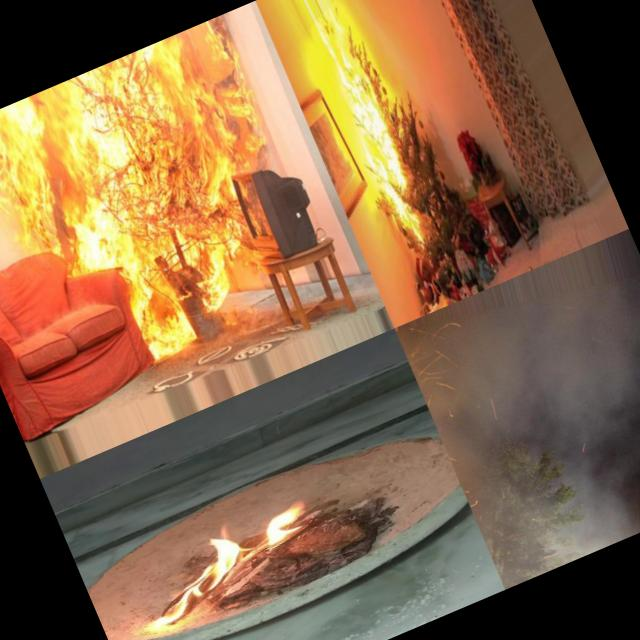fire: (38, 12, 339, 360), (294, 0, 439, 252), (119, 487, 333, 640), (0, 92, 106, 303)
smoke: (406, 268, 640, 526), (478, 468, 640, 589), (616, 266, 640, 405)
